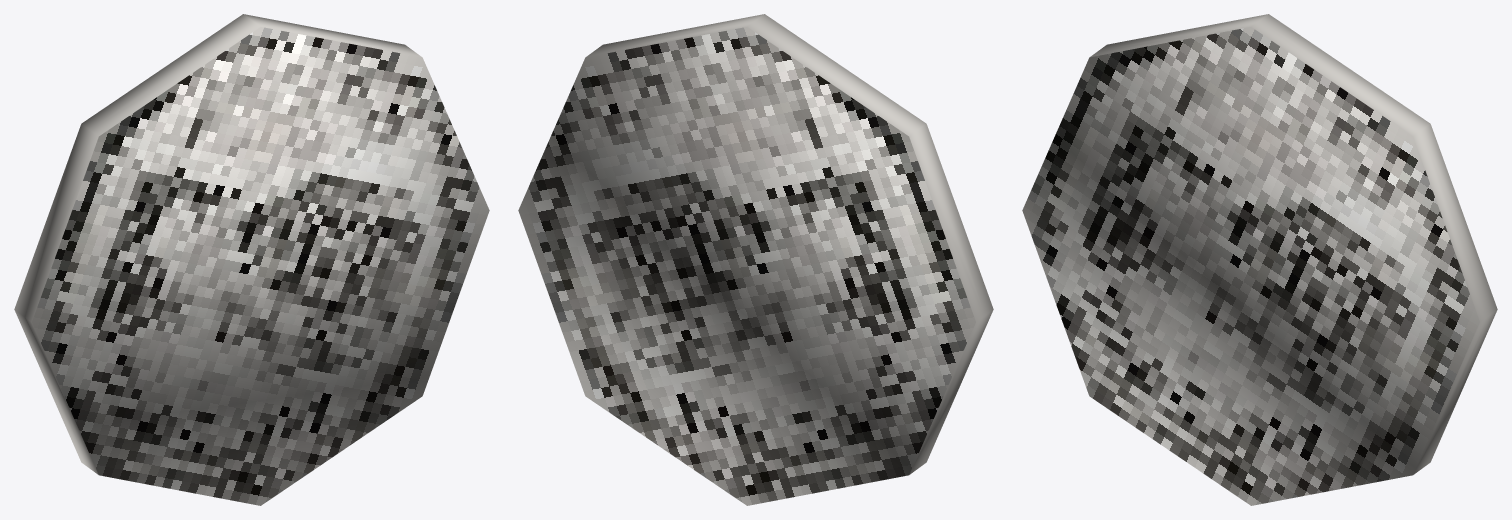
File: aventine_coins_denarius.glb
The picture shows the model from 3 angles, left to right: view 1: azimuth 30°, elevation 25°; view 2: azimuth 150°, elevation 25°; view 3: azimuth 330°, elevation 25°; orthographic projection.
Visible parts, largest first — view 1: coin_04_denarius; view 2: coin_04_denarius; view 3: coin_04_denarius.
Boxes of the visible parts, <box> form: coin_04_denarius: <box>14,14,489,505</box>; coin_04_denarius: <box>518,14,993,505</box>; coin_04_denarius: <box>1022,14,1497,505</box>.
Bounding box in the file's own units: 0.3105 × 0.3105 × 0.0206.
1 material, 1 textured.
